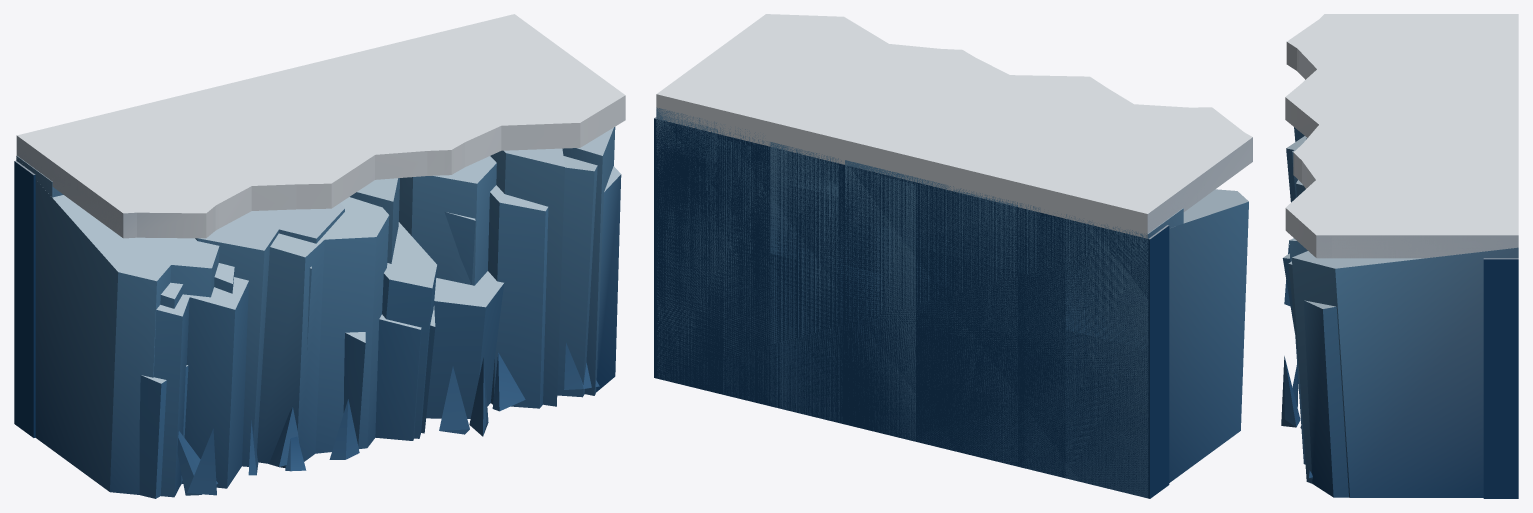
The model's file is cliff-kit.glb.
3 views of the same model, side by side, from view 1: azimuth 30°, elevation 25°; view 2: azimuth 150°, elevation 25°; view 3: azimuth 270°, elevation 25° (orthographic). The views are drawn at different scales.
Parts seen in each view (by area): view 1: ice_wall_1, ice_wall_0, ice_wall_2, ice_wall_3; view 2: ice_wall_0, ice_wall_1, ice_wall_3, ice_wall_2; view 3: ice_wall_0, ice_wall_3, ice_wall_1, ice_wall_2.
Part boxes in pixels (x1=…): ice_wall_1: x1=16, y1=14, x2=624, y2=494; ice_wall_0: x1=14, y1=14, x2=605, y2=495; ice_wall_2: x1=16, y1=15, x2=618, y2=497; ice_wall_3: x1=16, y1=15, x2=625, y2=498; ice_wall_0: x1=654, y1=17, x2=1251, y2=498; ice_wall_1: x1=657, y1=14, x2=1248, y2=498; ice_wall_3: x1=656, y1=14, x2=1252, y2=497; ice_wall_2: x1=658, y1=17, x2=1232, y2=493; ice_wall_0: x1=1286, y1=14, x2=1518, y2=498; ice_wall_3: x1=1285, y1=14, x2=1518, y2=497; ice_wall_1: x1=1281, y1=14, x2=1518, y2=497; ice_wall_2: x1=1284, y1=14, x2=1518, y2=306.
Size of the model in its own units: 2.1 by 1.15 by 0.9433.
